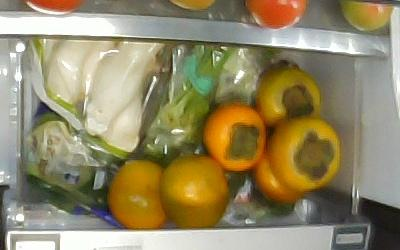persimmon: (269, 115, 341, 190), (161, 155, 231, 225), (107, 159, 174, 227), (255, 66, 320, 132), (204, 103, 265, 173)
